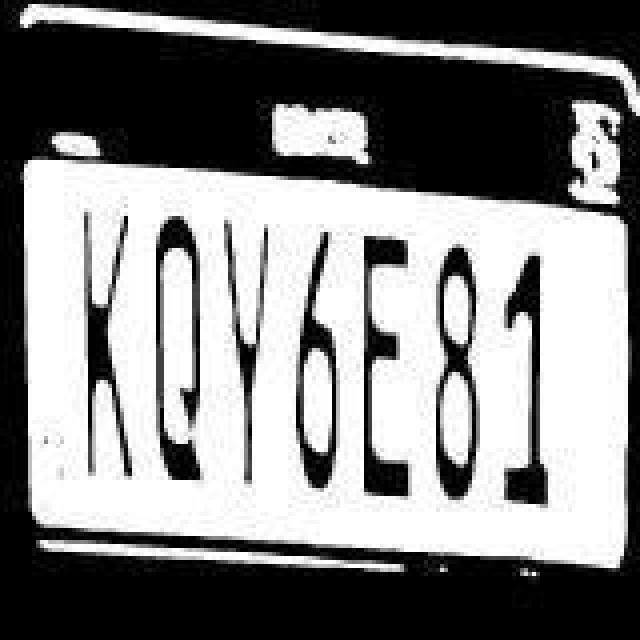1: (498, 236, 574, 532)
6: (286, 222, 354, 498)
8: (428, 232, 500, 512)
E: (346, 226, 430, 518)
K: (76, 202, 148, 486)
Q: (146, 210, 222, 494)
Y: (208, 214, 288, 490)
